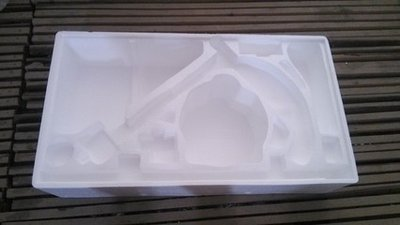5/可回收垃圾/泡沫: (31, 31, 359, 197)
